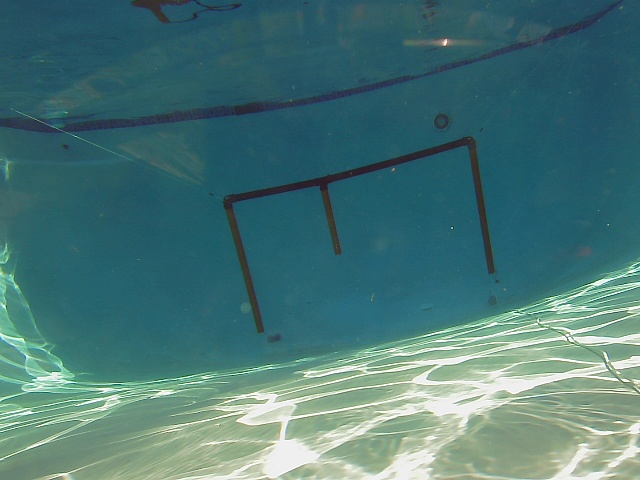Gate: (221, 200, 265, 335), (462, 142, 498, 279), (318, 182, 344, 257)
